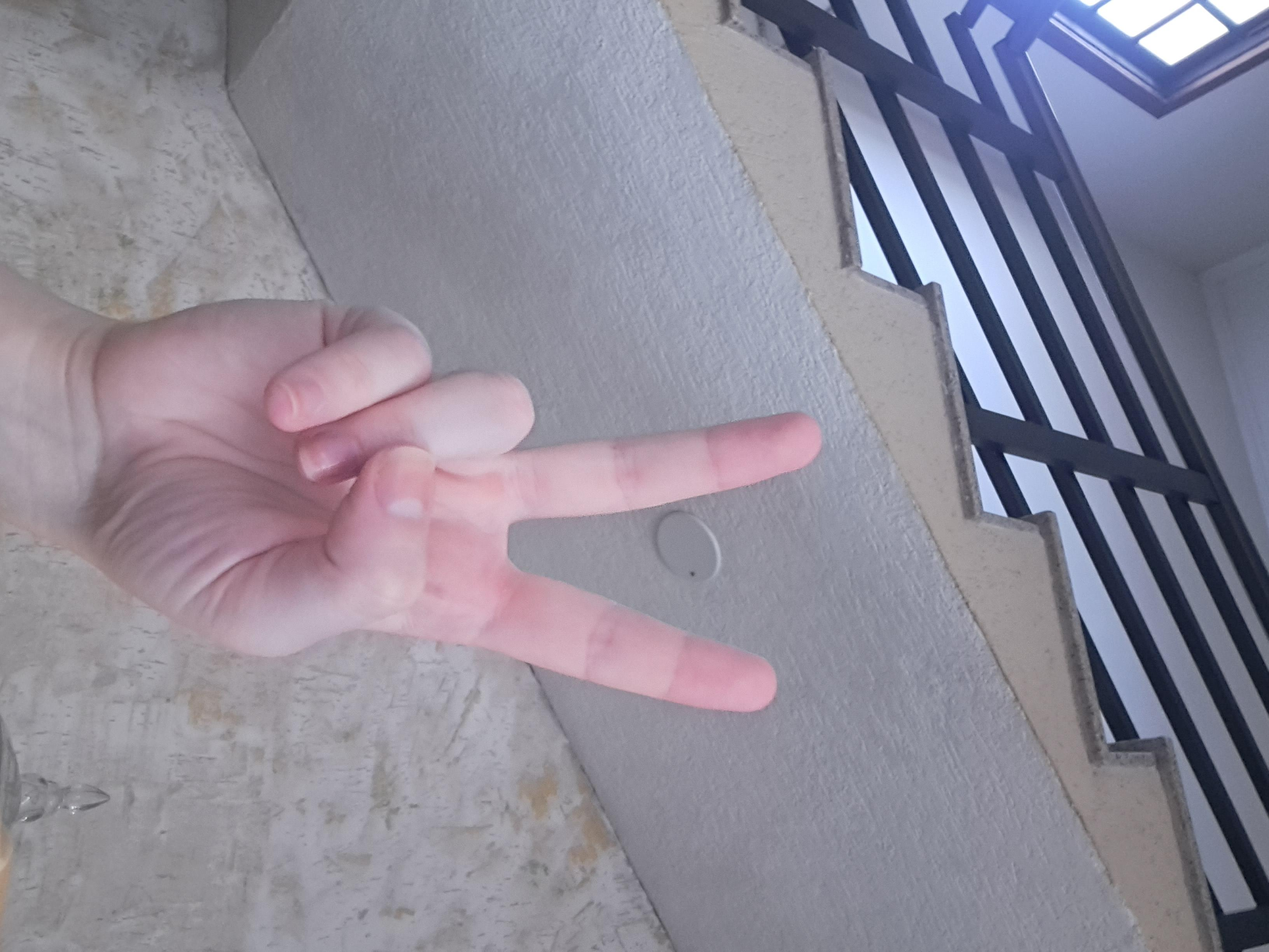V: (384, 327, 980, 901)
